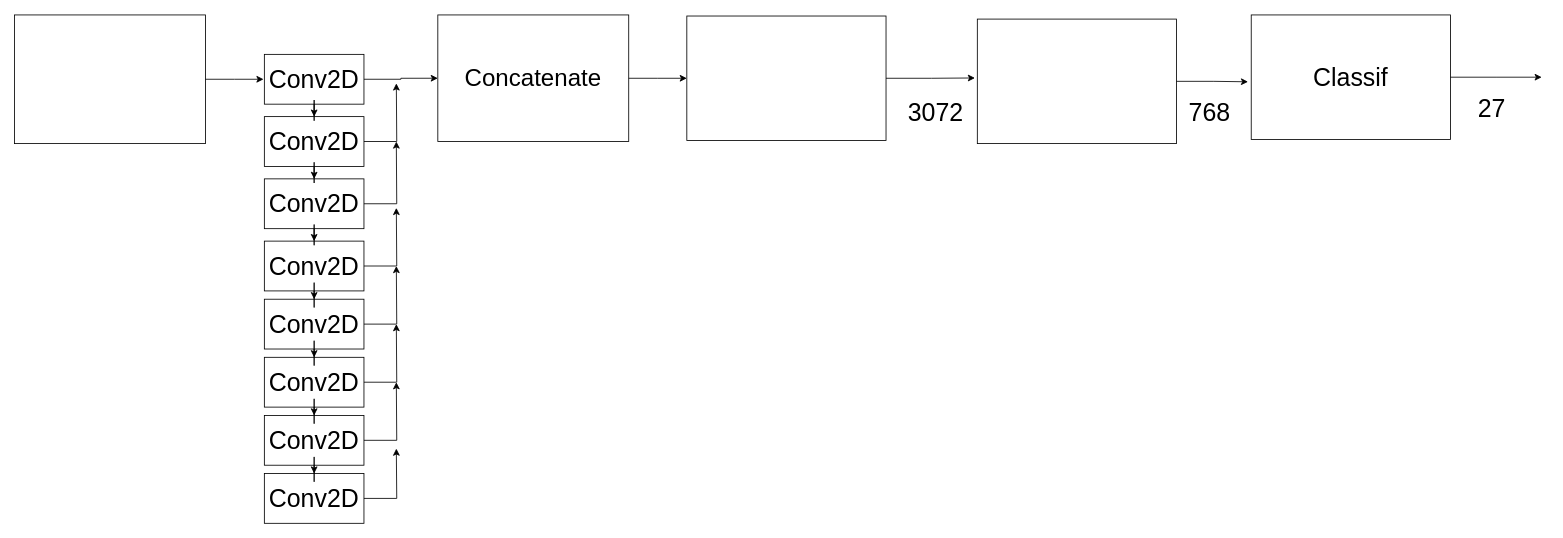
This 1563x538 diagram has some shape labels left out. The shapes that lost their labels are listed below. From the top down, each one's box as (x1, y1, x2, y2) in pixels, then its label:
(14, 14, 205, 144): Embedding layer
(686, 15, 886, 141): Dropout + Flatten
(976, 18, 1177, 144): Linear
